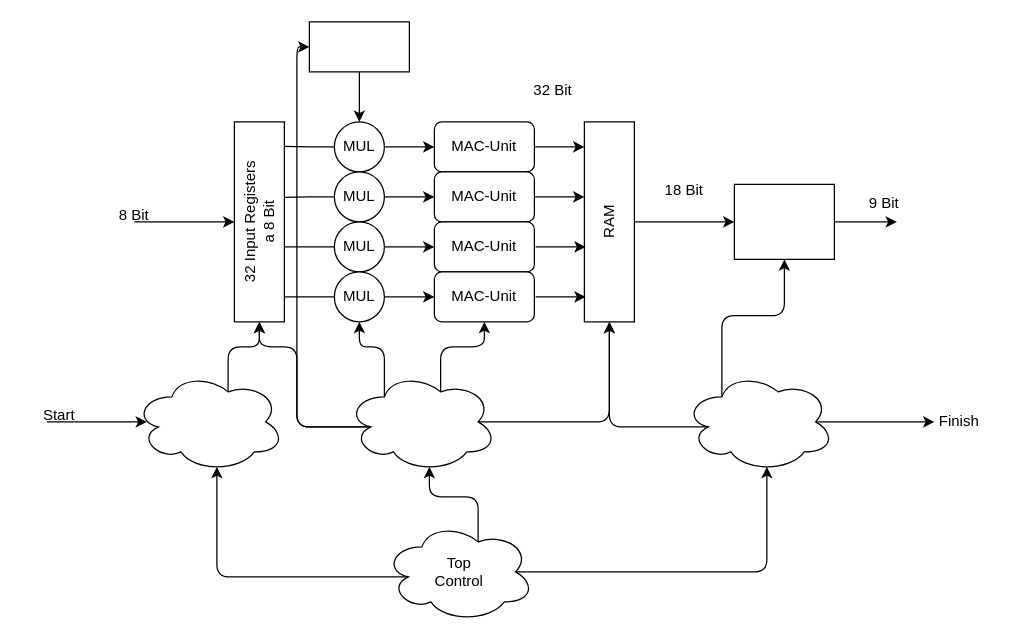
This 1018x644 diagram has some shape labels left out. Each missing label, with the centre of its shape:
"IR-Write Control" goes at point 208,421.
"MAC Control" goes at point 421,421.
"Output Control" goes at point 758,421.
"OUTPUT REGISTER 1x18" goes at point 783,221.
"ROM" goes at point 358,46.
